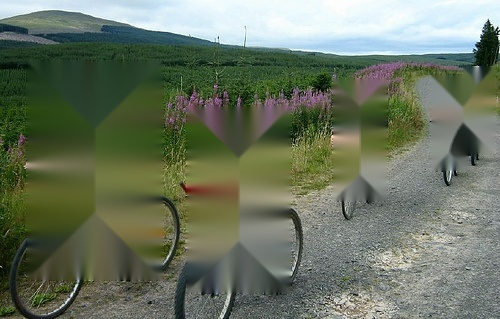bicycle: (12, 161, 181, 319), (177, 188, 304, 319), (334, 128, 380, 220), (432, 118, 465, 186), (465, 104, 490, 166)
